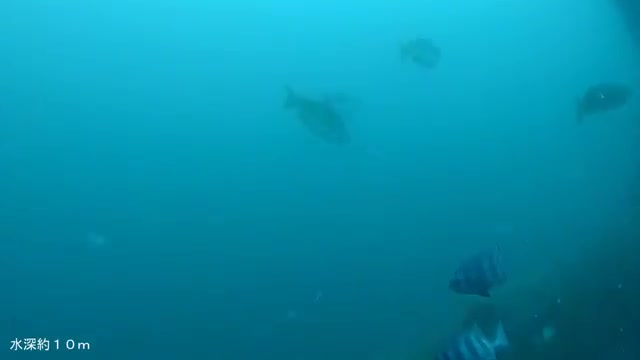smallfish: (271, 82, 368, 154), (446, 241, 513, 303), (375, 29, 448, 70)
